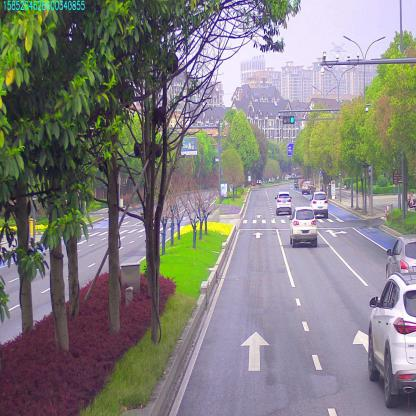traffic-light: (284, 116, 294, 127)
